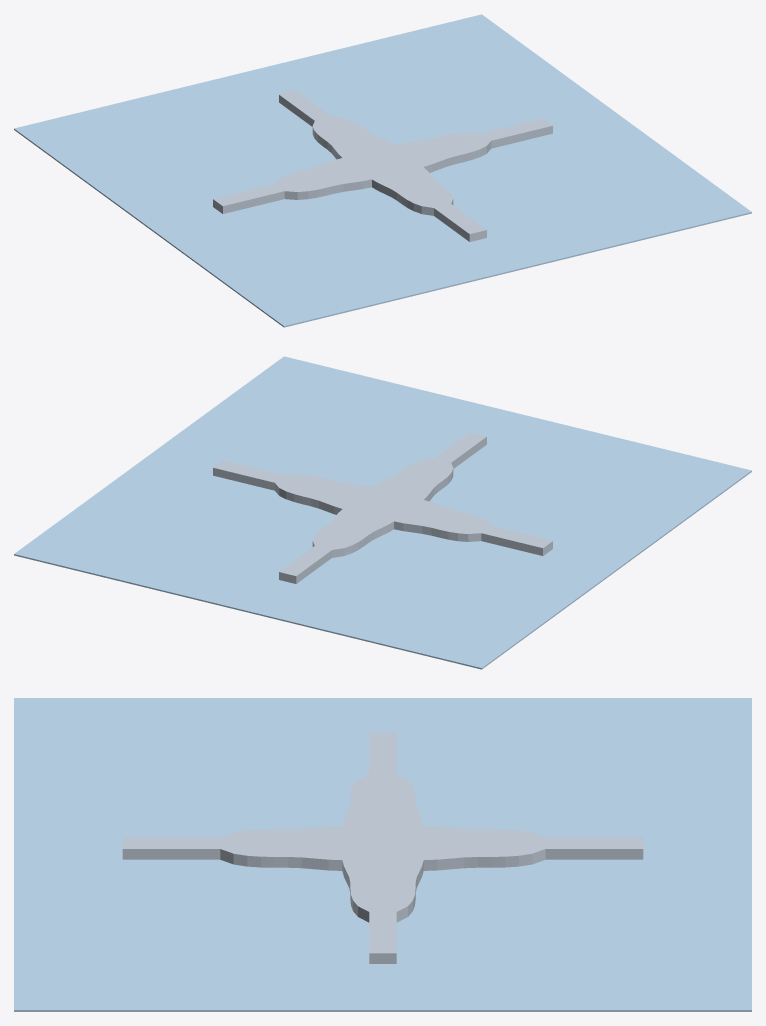
File: siepic-crossing.glb
3 renders of one model, top to bottom at view 1: azimuth 30°, elevation 25°; view 2: azimuth 150°, elevation 25°; view 3: azimuth 270°, elevation 25°, orthographic. The views are drawn at different scales.
Visible parts, largest first — view 1: box_top, core_0; view 2: box_top, core_0; view 3: box_top, core_0.
Part boxes in pixels (<box>): box_top: <box>14,14,751,327</box>; core_0: <box>213,90,552,241</box>; box_top: <box>14,356,751,669</box>; core_0: <box>213,432,552,583</box>; box_top: <box>14,698,751,1011</box>; core_0: <box>122,733,643,963</box>.
Size of the model in its own units: 13.6 by 0.26 by 13.6.
